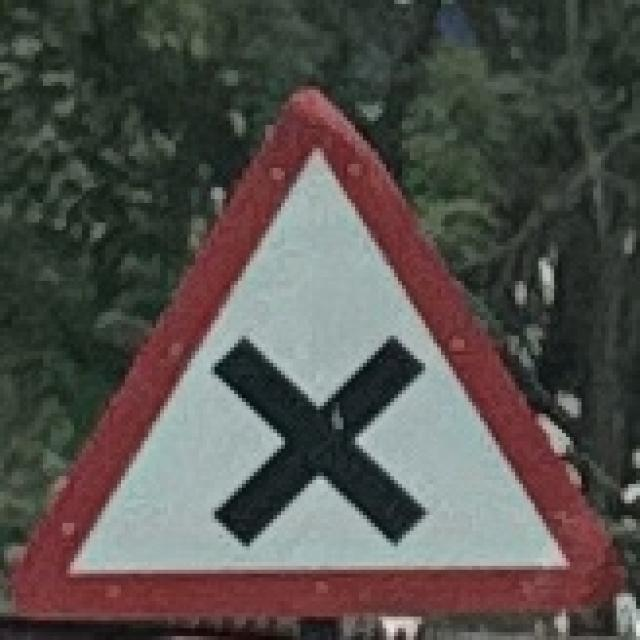CROSS_ROAD: (7, 71, 625, 626)
